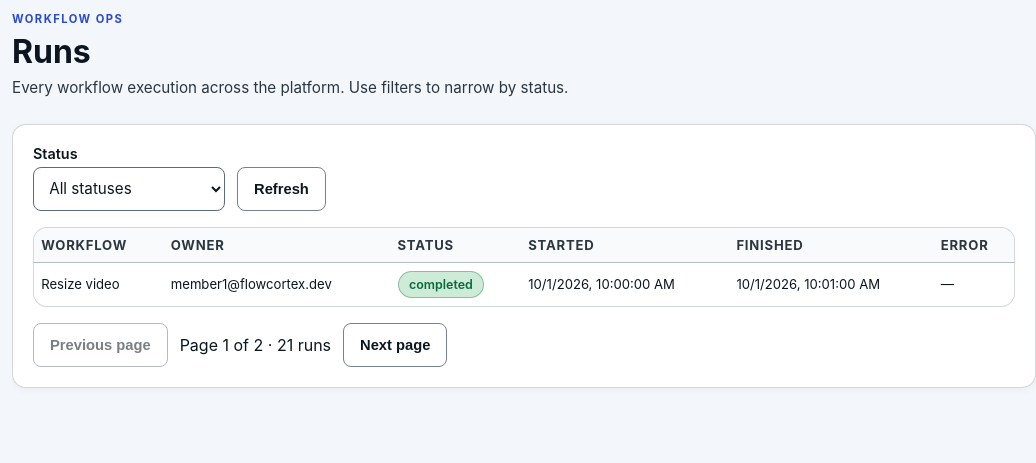
Scenario: RunsPage › offers the first page and keeps the pager when a later page comes back empty
Expected: the table is shown, top-left (34, 228), bottom-right (1014, 306)
What coordinates should you click on to do the following:
click the button "Next page"
I would click on:
 (395, 345)
Its box is top-left (343, 323), bottom-right (447, 367).
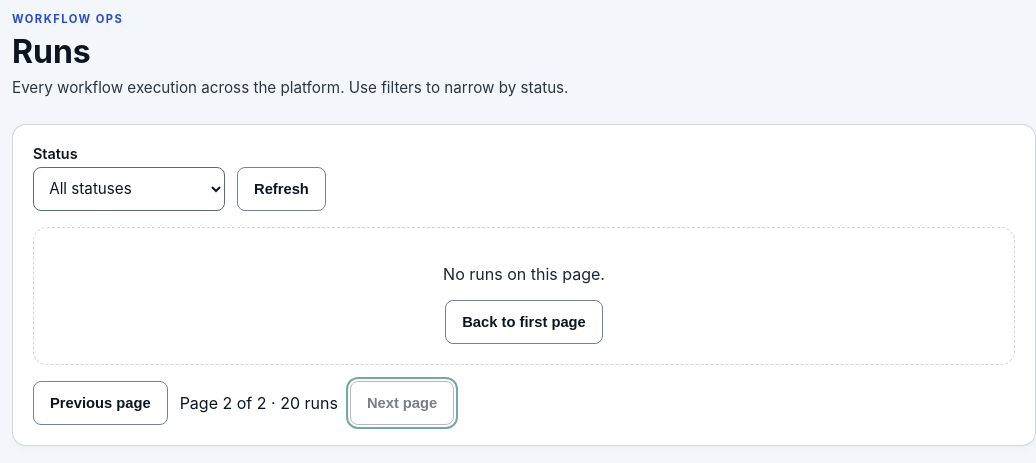
Expected: the button "Previous page" is shown, top-left (33, 381), bottom-right (168, 425)
Result: the text "No runs on this page." is shown at top-left (443, 264), bottom-right (605, 284)
What coordinates should you click on to do the following:
click the button "Back to first page"
I would click on:
 (524, 322)
Its box is top-left (445, 300), bottom-right (603, 344).
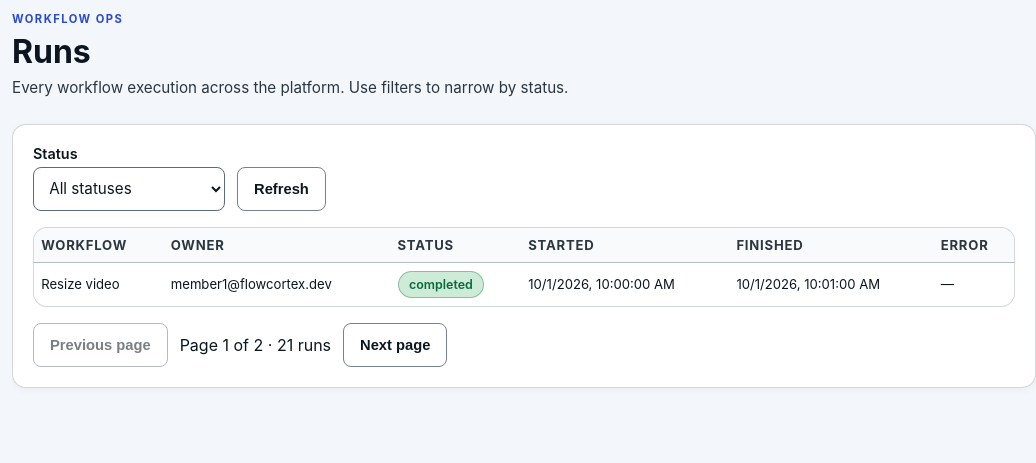
Result: the table is shown at top-left (34, 228), bottom-right (1014, 306)
